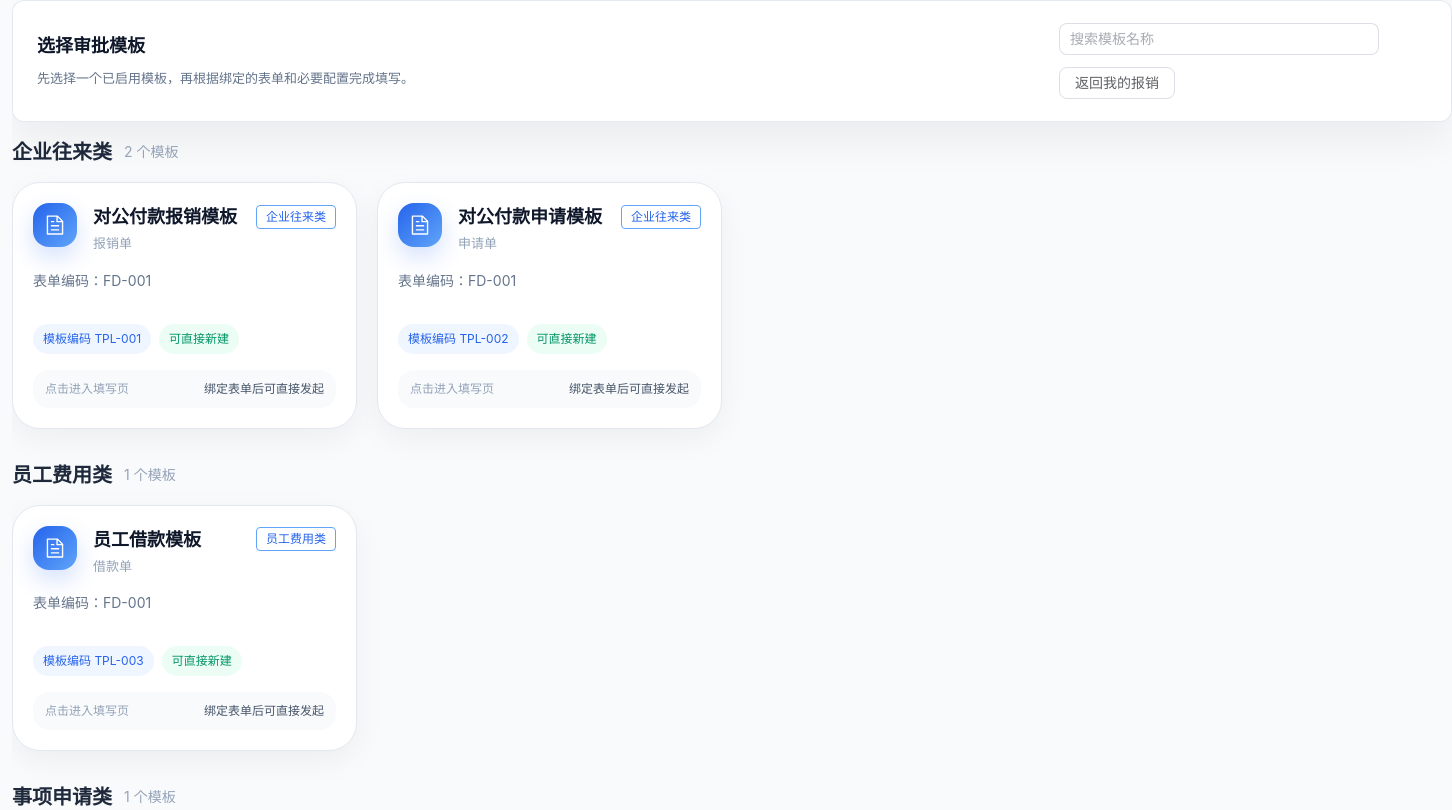
ExpenseCreateView › groups template cards by category in the fixed business order and keeps grouping after search
The image size is (1452, 810).
Expected: the elements with test id "expense-template-group-title" read "企业往来类", "员工费用类", "事项申请类", in this order, [12,138,112,166]; [12,460,112,488]; [12,783,112,809]
Expected: the element with test id "expense-template-group" shows "对公付款报销模板", [12,182,357,428]
Type "对公" into the field with placeholder "搜索模板名称" at (1219, 39), box [1070,24,1368,54]
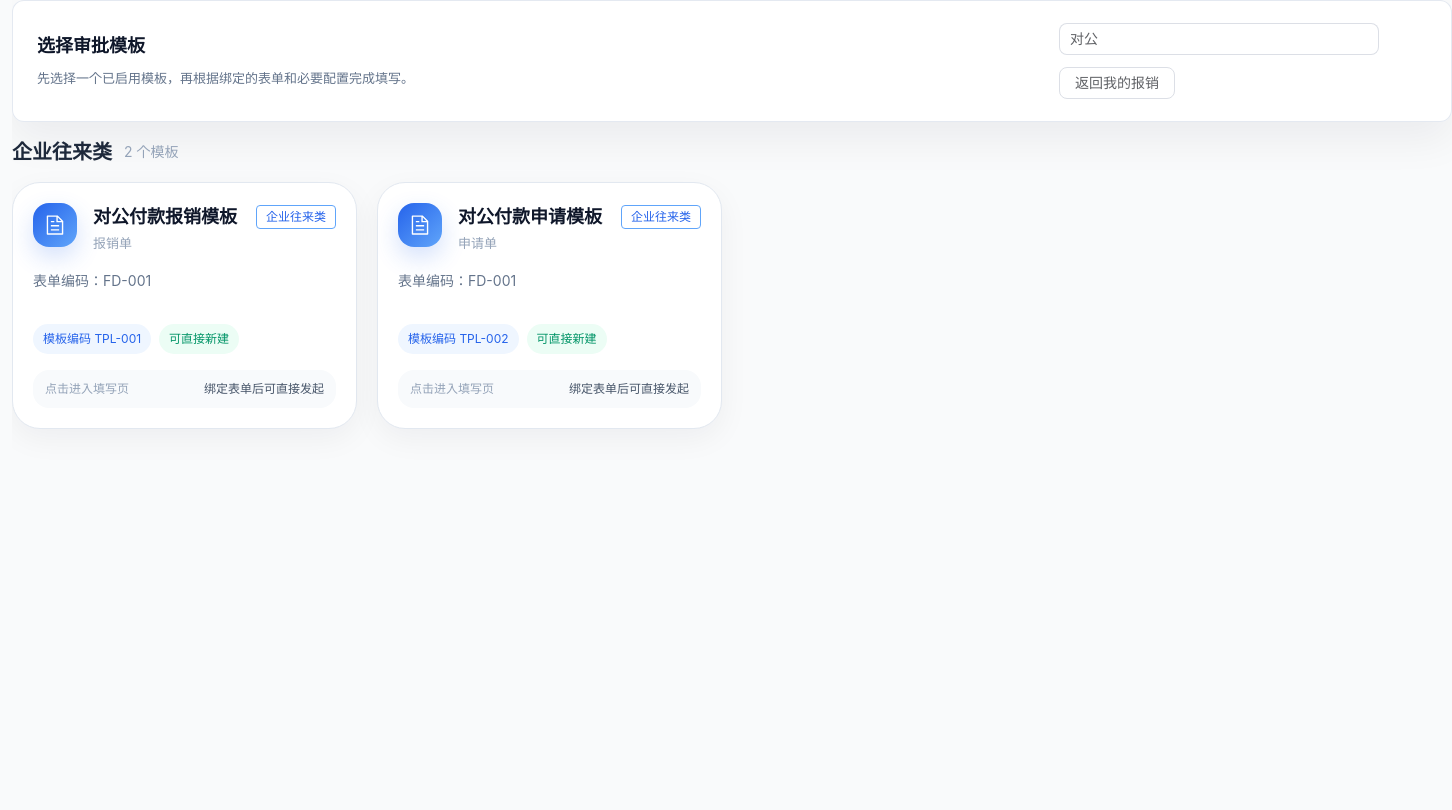
Expected: the elements with test id "expense-template-group-title" read "企业往来类", in this order, [12,138,112,166]
Result: the text "员工借款模板" is gone
